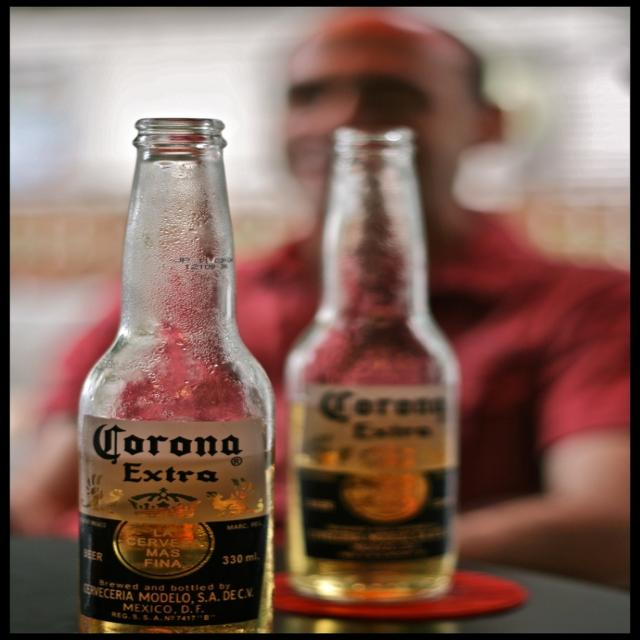corona: (73, 416, 281, 630), (298, 383, 463, 564)
